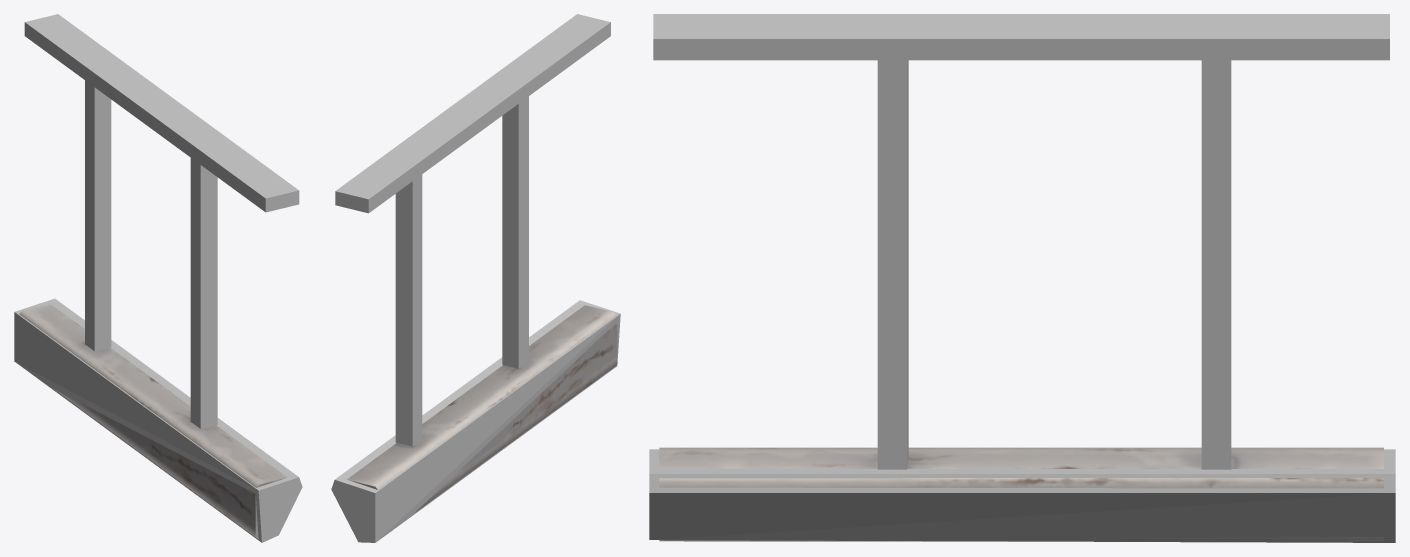
File: SM_PropStairs01PTypeA3.fbx
The picture shows the model from 3 angles, left to right: view 1: azimuth 30°, elevation 25°; view 2: azimuth 150°, elevation 25°; view 3: azimuth 270°, elevation 25°; orthographic projection. The views are drawn at different scales.
Visible parts, largest first — view 1: SM_PropStairs01PTypeA3_ConvexHulls, SM_PropStairs01PTypeA3; view 2: SM_PropStairs01PTypeA3_ConvexHulls, SM_PropStairs01PTypeA3; view 3: SM_PropStairs01PTypeA3_ConvexHulls, SM_PropStairs01PTypeA3.
Boxes of the visible parts, x1,y1,x2,y2 form: SM_PropStairs01PTypeA3_ConvexHulls: (14,14,302,542); SM_PropStairs01PTypeA3: (19,304,287,538); SM_PropStairs01PTypeA3_ConvexHulls: (331,14,620,542); SM_PropStairs01PTypeA3: (347,305,617,512); SM_PropStairs01PTypeA3_ConvexHulls: (649,14,1395,542); SM_PropStairs01PTypeA3: (659,447,1383,541).
Bounding box in the file's own units: 13.38 × 129 × 99.46.
Materials: 2 (1 with a texture image).
